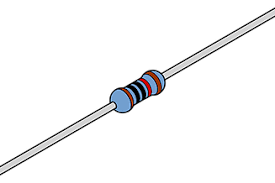resistor: (94, 64, 187, 132)
